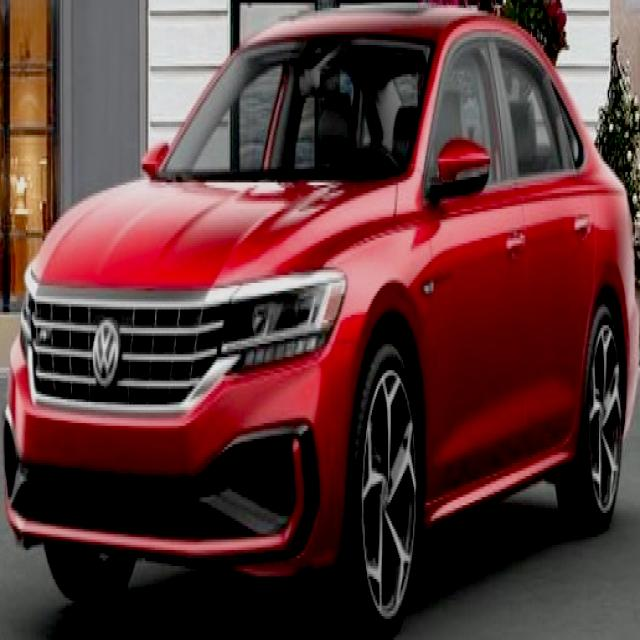red: (19, 11, 634, 600)
